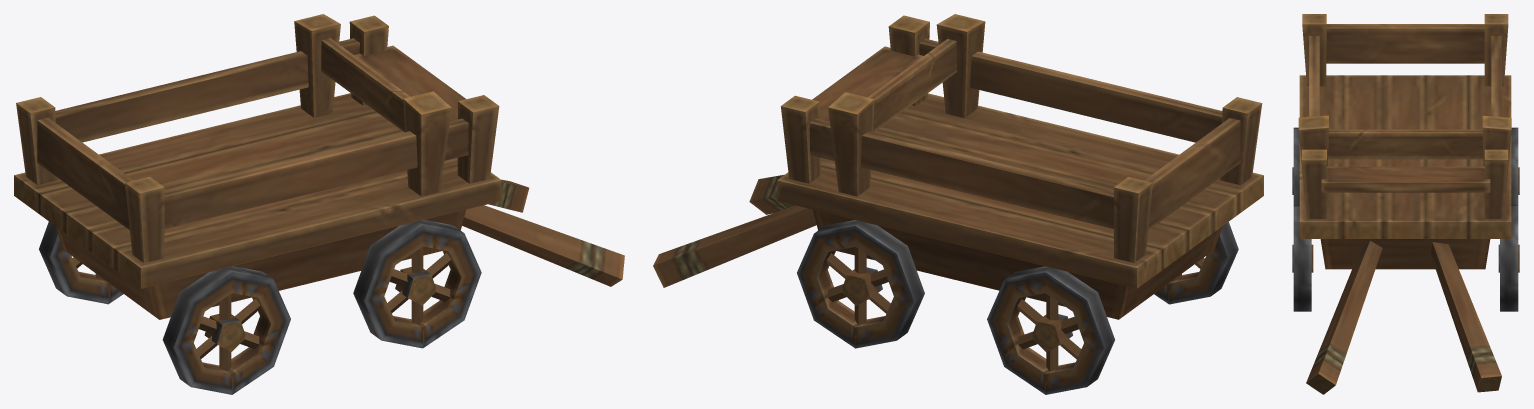
Rendered from wood_vagon_a.FBX.
3 views of the same model, side by side, from view 1: azimuth 30°, elevation 25°; view 2: azimuth 150°, elevation 25°; view 3: azimuth 270°, elevation 25° (orthographic). The views are drawn at different scales.
Visible parts, largest first — view 1: polySurface1204; view 2: polySurface1204; view 3: polySurface1204.
Part boxes in pixels (bbox=[...]): polySurface1204: bbox=[14, 14, 624, 394]; polySurface1204: bbox=[653, 14, 1263, 394]; polySurface1204: bbox=[1292, 14, 1519, 394].
Size of the model in its own units: 80.66 by 38.34 by 36.53.
